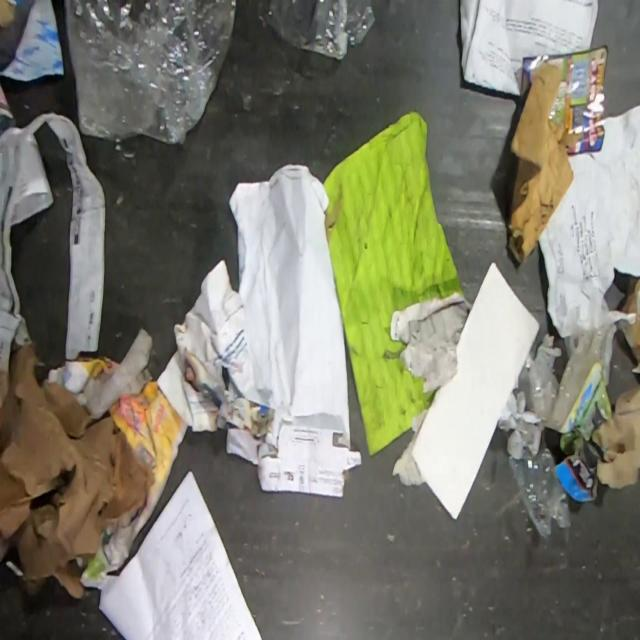cardboard: (0, 341, 154, 599), (506, 61, 584, 266)
soft_plastic: (62, 0, 236, 147), (497, 277, 618, 458), (260, 0, 377, 61), (508, 444, 571, 538)
